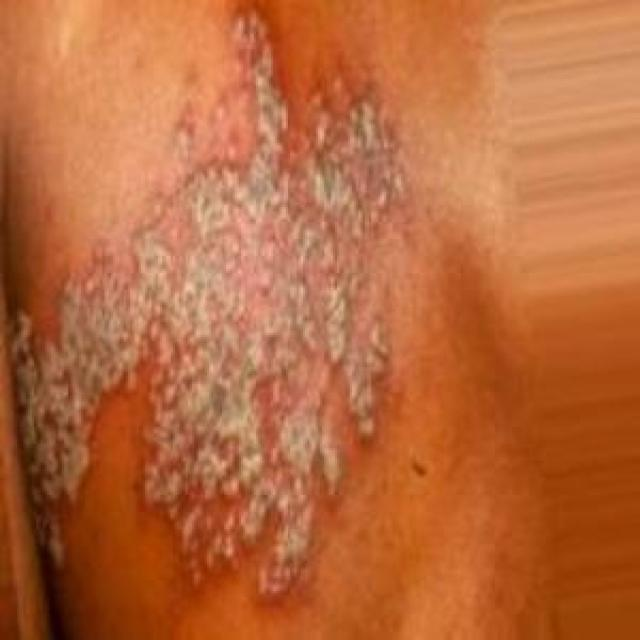Shingles: (11, 5, 407, 603)
